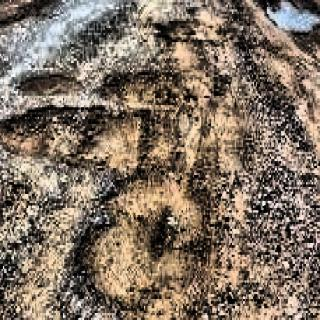pothole: (83, 177, 320, 320), (102, 67, 320, 178), (160, 2, 320, 67), (0, 102, 133, 172), (18, 72, 86, 100)
